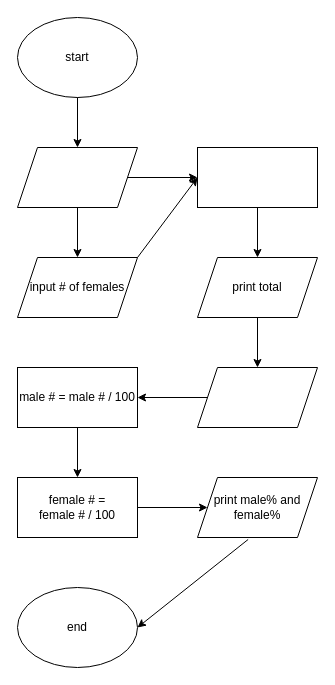
The diagram is 335 pixels wide and 685 high, and some of its shapes have lost their labels. The shapes that lost their labels are listed below. From the top down, each one's box as (x1, y1, x2, y2) in pixels, then its label:
(16, 146, 138, 208): input # of males
(196, 146, 318, 208): total = male + female
(196, 366, 318, 428): print male # print female #
